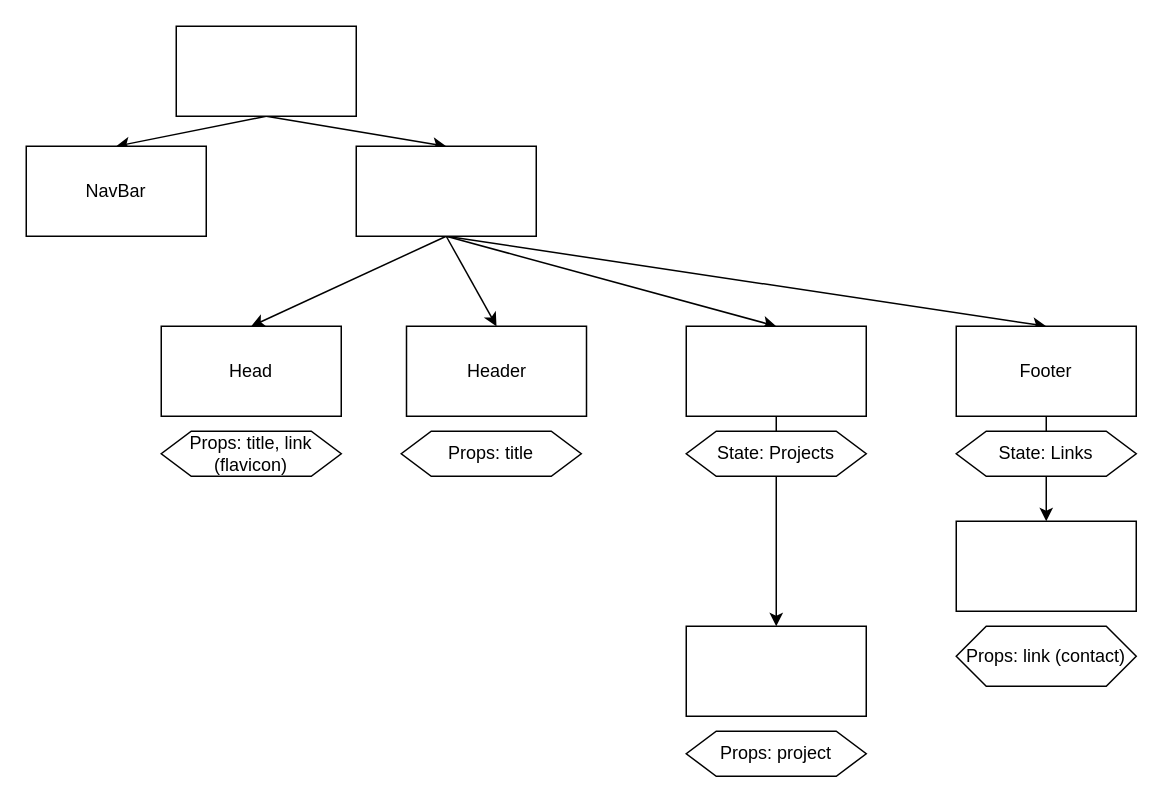
This 1163x803 diagram has some shape labels left out. Here are the shapes that lost their labels. From the top down, the box of each, then its label:
(175, 25, 356, 116): Layout
(355, 145, 536, 236): Home
(685, 325, 866, 416): WorkSection
(955, 520, 1136, 611): Contact
(685, 625, 866, 716): ExampleWork
